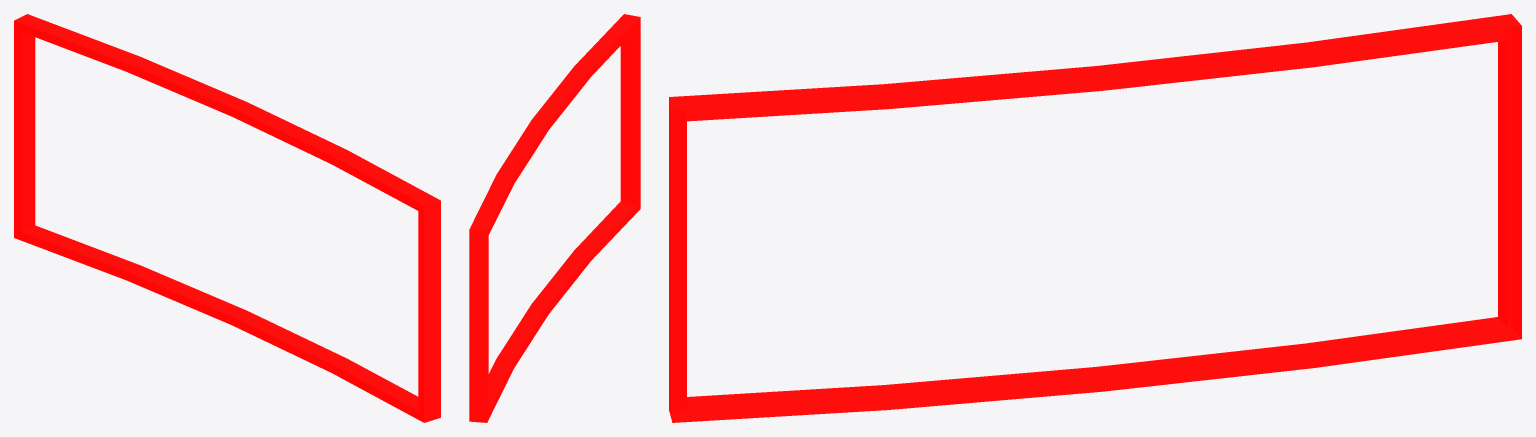
The model's file is F1_Screen_Frame_Red.FBX.
3 views of the same model, side by side, from view 1: azimuth 30°, elevation 25°; view 2: azimuth 150°, elevation 25°; view 3: azimuth 270°, elevation 25° (orthographic). The views are drawn at different scales.
Visible parts, largest first — view 1: Frame_F1_Screen_Red; view 2: Frame_F1_Screen_Red; view 3: Frame_F1_Screen_Red.
Boxes of the visible parts, bbox=[...] form: Frame_F1_Screen_Red: bbox=[14, 14, 440, 422]; Frame_F1_Screen_Red: bbox=[469, 14, 640, 422]; Frame_F1_Screen_Red: bbox=[669, 14, 1521, 422].
Bounding box in the file's own units: 19.3 × 29.52 × 72.79.
